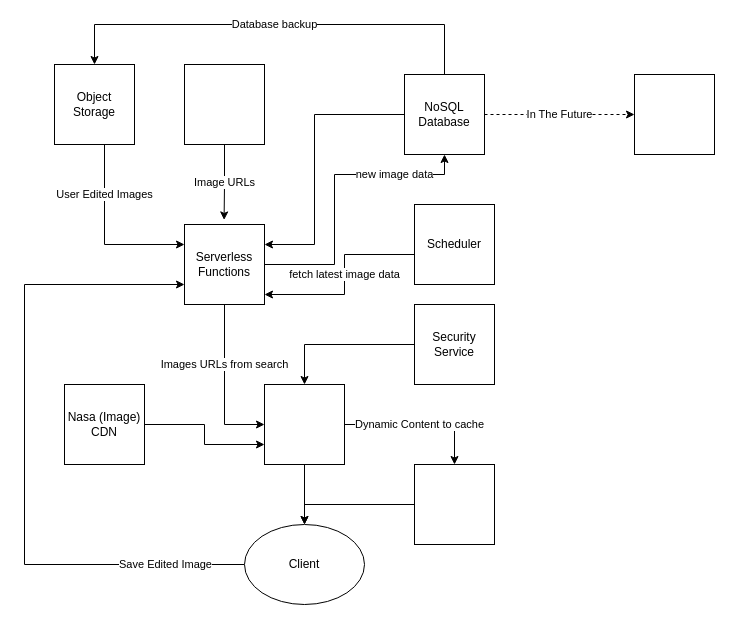
Some shapes in this 732 by 622 pixel diagram are drawn without their labels. The shapes that lost their labels are listed below. From the top down, each one's box as (x1, y1, x2, y2) in pixels, then its label:
(184, 64, 264, 144): NASA Open APIs (Images)
(634, 74, 714, 154): Algolia Indexing
(264, 384, 344, 464): Frontend Server
(414, 464, 494, 544): CDN
